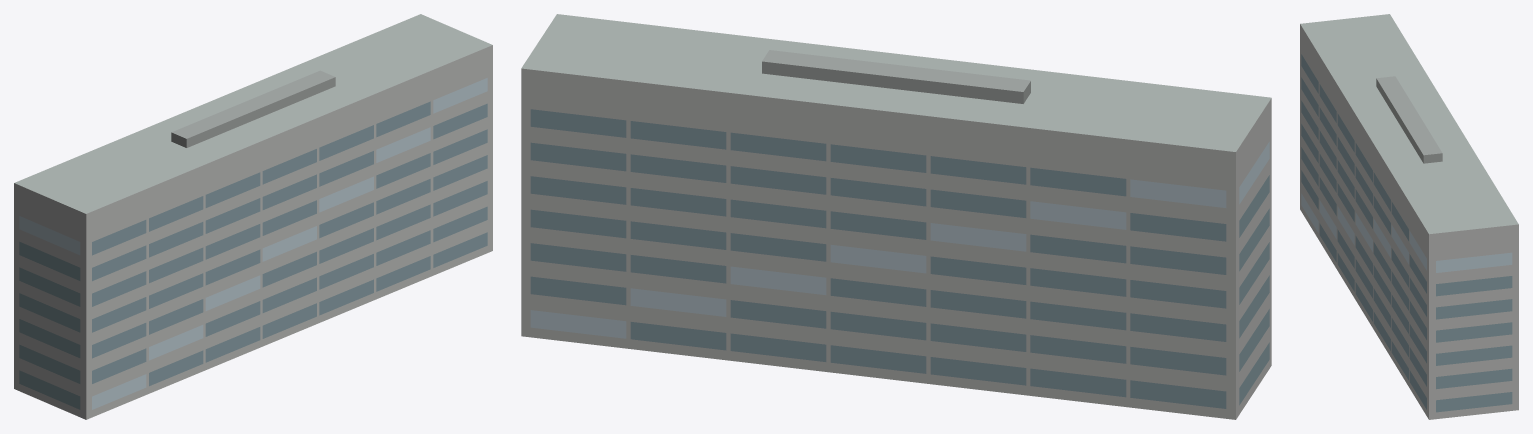
Rendered from fallback-olympic-athletes-village-308.glb.
The picture shows the model from 3 angles, left to right: view 1: azimuth 30°, elevation 25°; view 2: azimuth 150°, elevation 25°; view 3: azimuth 270°, elevation 25°; orthographic projection. The views are drawn at different scales.
Parts seen in each view (by area): view 1: fallback-olympic-athletes-village-308; view 2: fallback-olympic-athletes-village-308; view 3: fallback-olympic-athletes-village-308.
Part boxes in pixels (x1,y1,x2,y2): fallback-olympic-athletes-village-308: [14, 14, 492, 419]; fallback-olympic-athletes-village-308: [521, 14, 1271, 419]; fallback-olympic-athletes-village-308: [1300, 14, 1518, 419].
Size of the model in its own units: 62.05 by 25.5 by 26.05.
